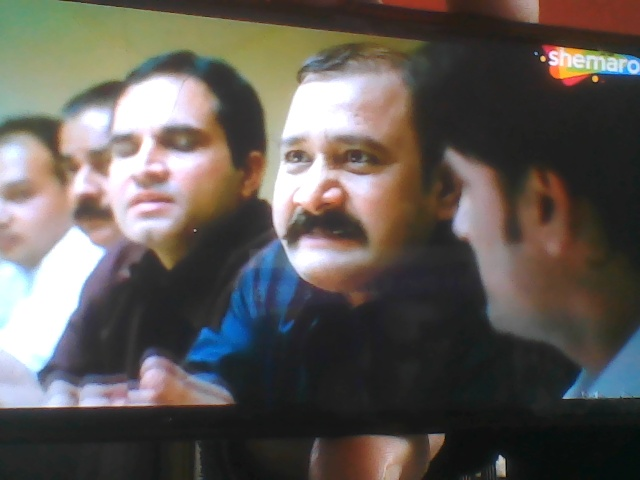fake: (255, 8, 466, 307), (93, 40, 245, 255)
